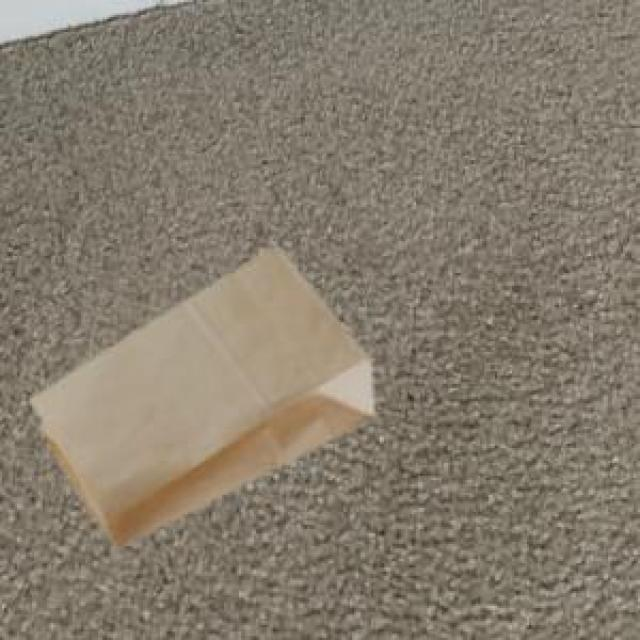paper: (28, 243, 369, 544)
